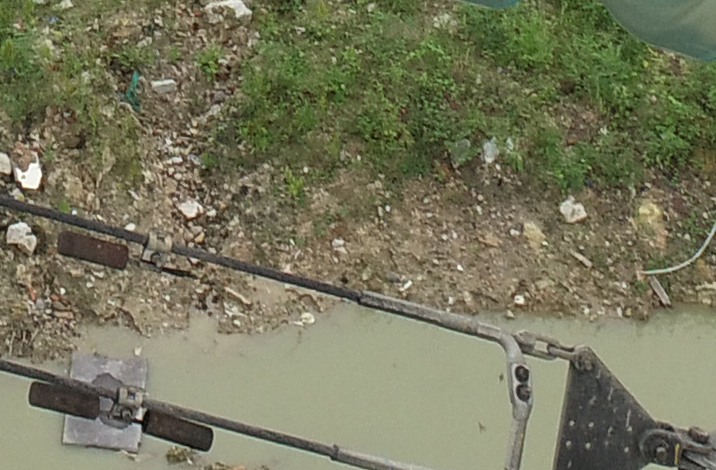damper: (24, 373, 214, 451)
damper_defect: (57, 220, 202, 283)
